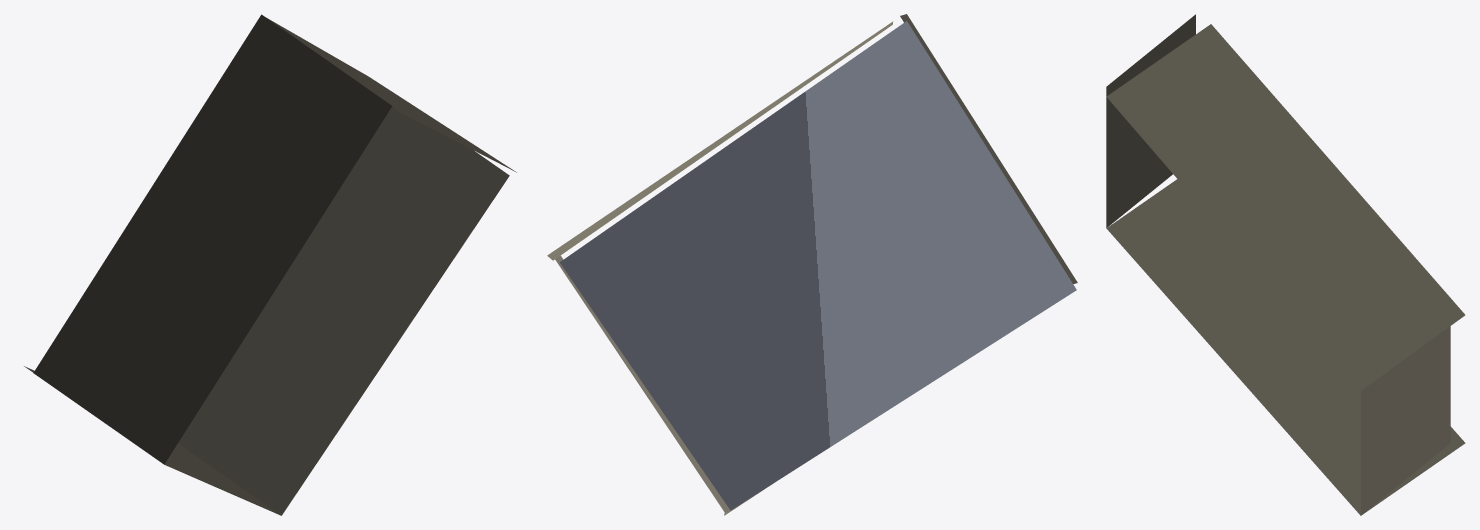
The model's file is tile_LOD3_r5_c3.glb.
3 renders of one model, left to right at view 1: azimuth 30°, elevation 25°; view 2: azimuth 150°, elevation 25°; view 3: azimuth 270°, elevation 25°, orthographic. The views are drawn at different scales.
Bounding box in the file's own units: 17.25 × 16.75 × 12.
4 materials, 2 textured.
